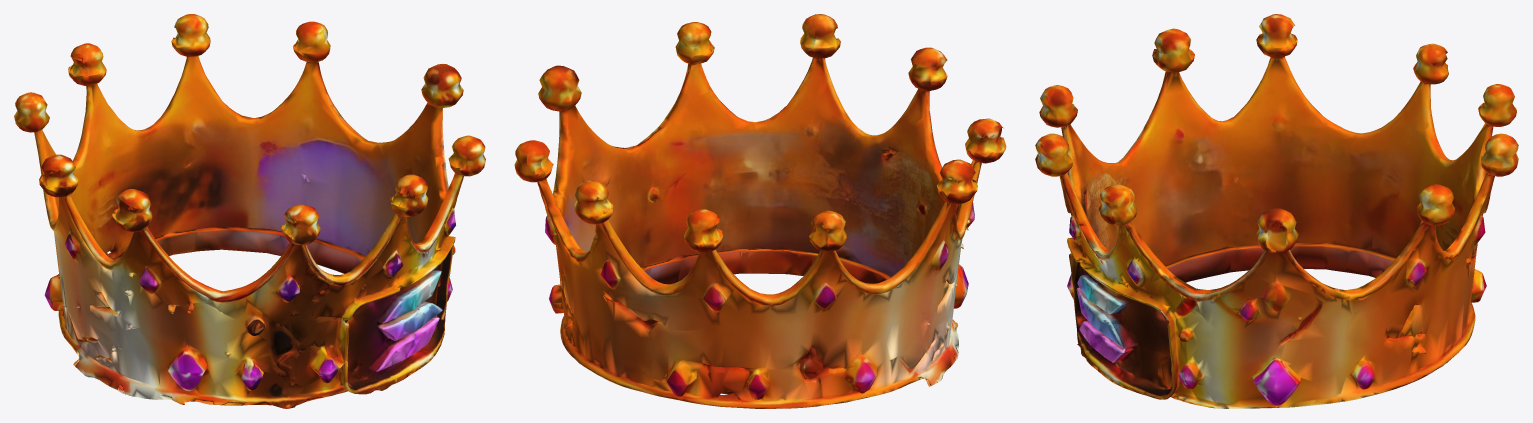
File: crown.glb
3 renders of one model, left to right at view 1: azimuth 30°, elevation 25°; view 2: azimuth 150°, elevation 25°; view 3: azimuth 270°, elevation 25°, orthographic. The views are drawn at different scales.
Parts seen in each view (by area): view 1: tripo_node_2e7d811d-006c-4461-a505-8e9df1026686; view 2: tripo_node_2e7d811d-006c-4461-a505-8e9df1026686; view 3: tripo_node_2e7d811d-006c-4461-a505-8e9df1026686.
Boxes of the visible parts, box(x1,y1,x2,y2) form: tripo_node_2e7d811d-006c-4461-a505-8e9df1026686: box(14, 14, 485, 408); tripo_node_2e7d811d-006c-4461-a505-8e9df1026686: box(514, 14, 1006, 408); tripo_node_2e7d811d-006c-4461-a505-8e9df1026686: box(1035, 14, 1518, 408).
Bounding box in the file's own units: 0.9984 × 0.5112 × 0.9845.
Materials: 1 (1 with a texture image).
